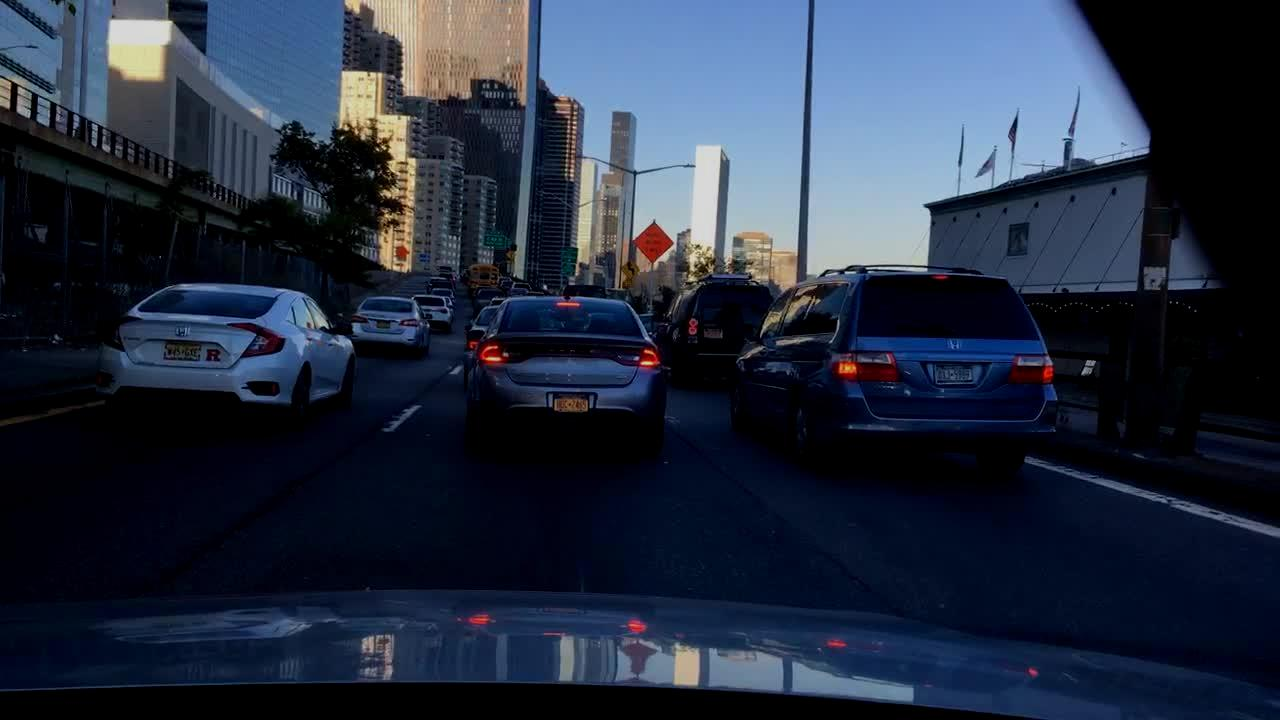Honda: (171, 321, 196, 343), (943, 331, 963, 354)
